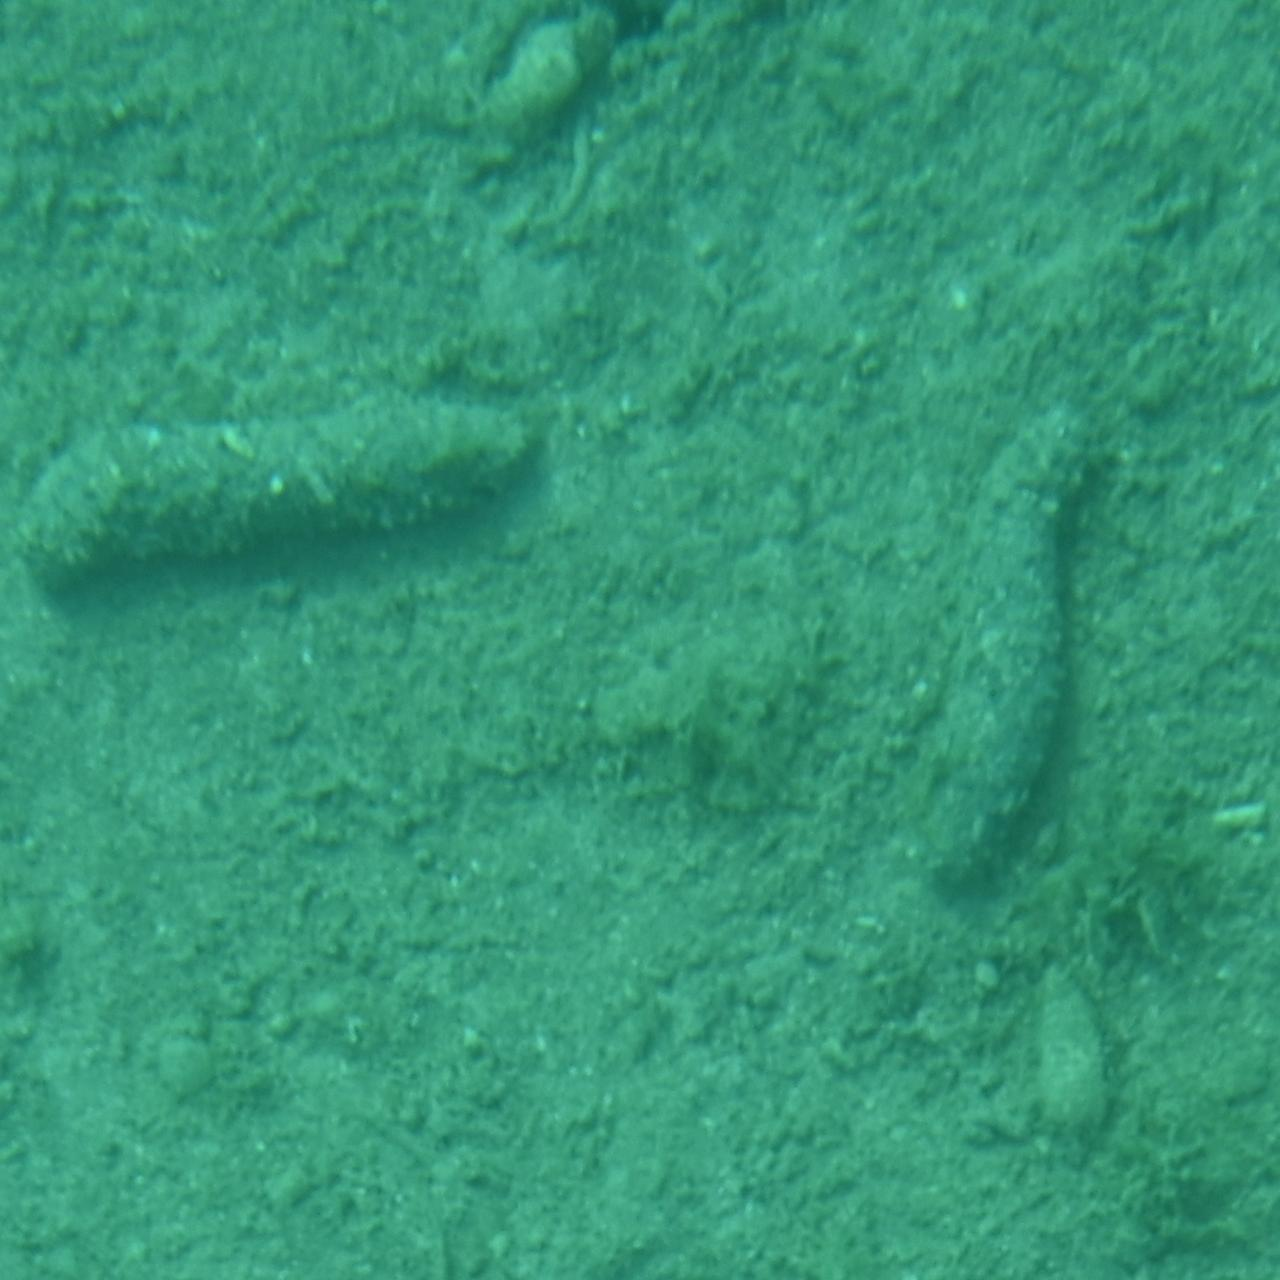Holothuria tubulosa: (0, 381, 554, 626), (898, 393, 1110, 913)
